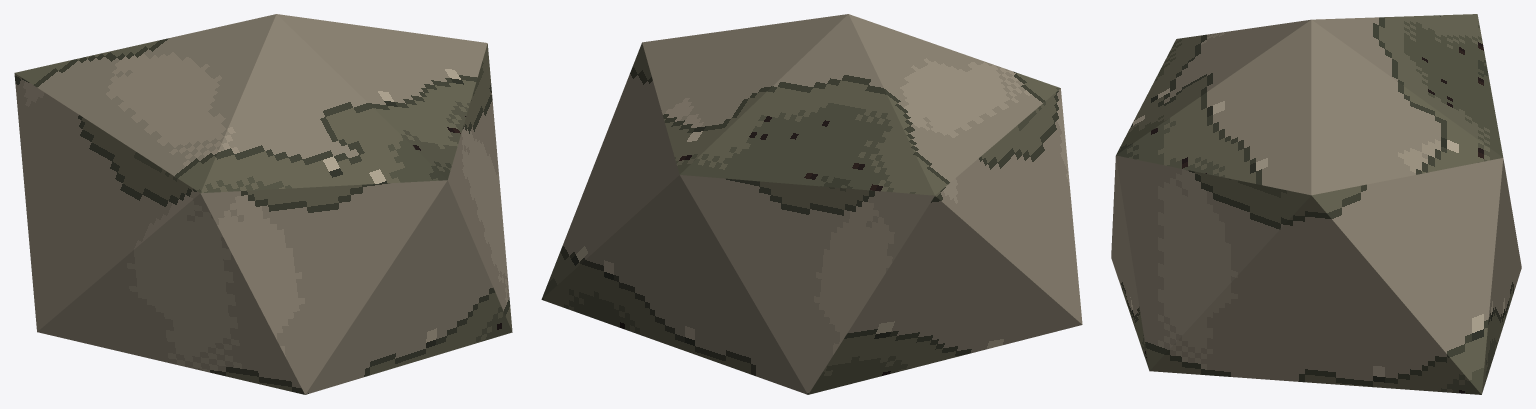
Rendered from ANC_Rock_B.glb.
3 views of the same model, side by side, from view 1: azimuth 30°, elevation 25°; view 2: azimuth 150°, elevation 25°; view 3: azimuth 270°, elevation 25° (orthographic). The views are drawn at different scales.
Visible parts, largest first — view 1: Rock; view 2: Rock; view 3: Rock.
Part boxes in pixels (x1=…): Rock: x1=14, y1=14, x2=512, y2=394; Rock: x1=541, y1=14, x2=1082, y2=394; Rock: x1=1111, y1=14, x2=1521, y2=394.
Size of the model in its own units: 0.6519 by 0.4617 by 0.5213.
Materials: 1 (1 with a texture image).
